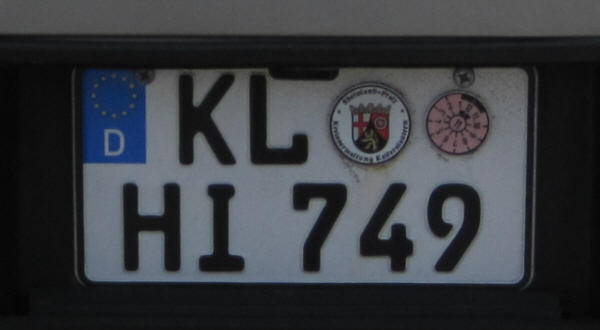license_plate: (73, 67, 537, 293)
